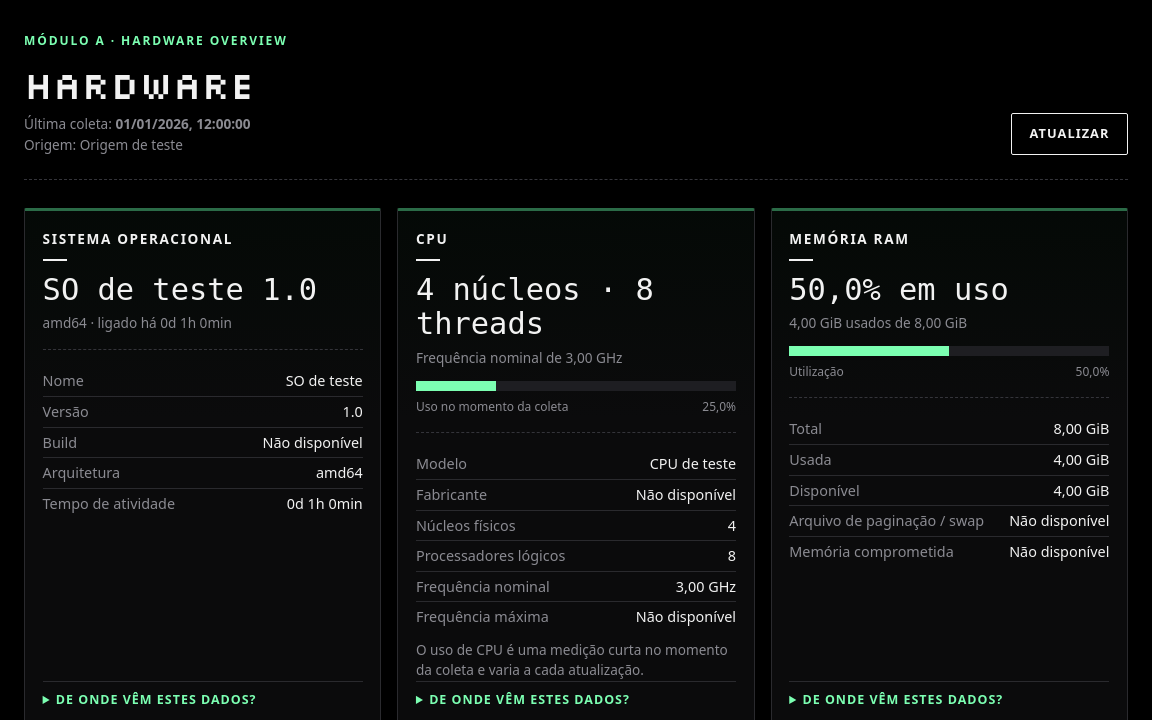
it: HardwareOverviewPage › mantém a última coleta e avisa quando a atualização falha
Expected: the text "SO de teste" is shown, [286,370,363,392]
What coordinates should you click on to do the following:
click the button "Atualizar"
I would click on:
 (1070, 134)
Its box is [1011,113,1128,155].
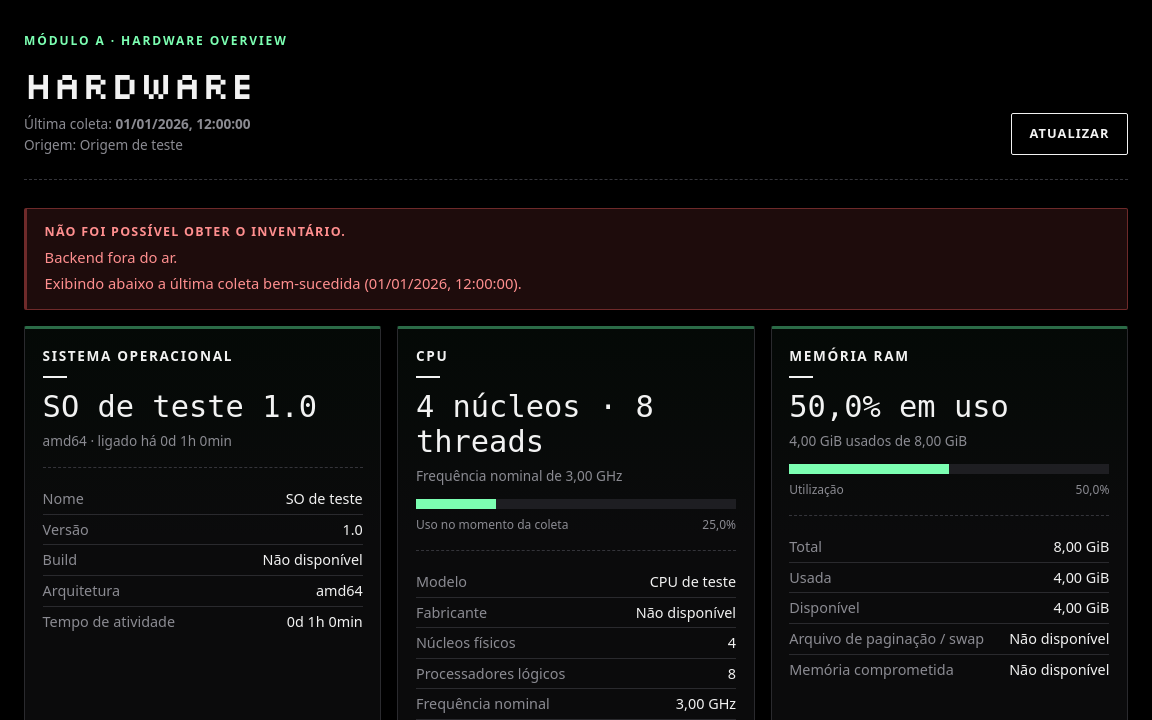
Expected: the text "SO de teste" is shown, [286,488,363,510]
Expected: the text "Backend fora do ar." is shown, [45,247,177,267]
Expected: the text "Exibindo abaixo a última coleta bem-sucedida" is shown, [45,273,369,293]
